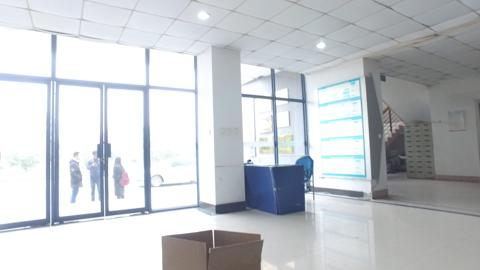box: (159, 227, 260, 269)
